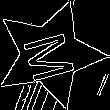M_E: (18, 25, 82, 84)
